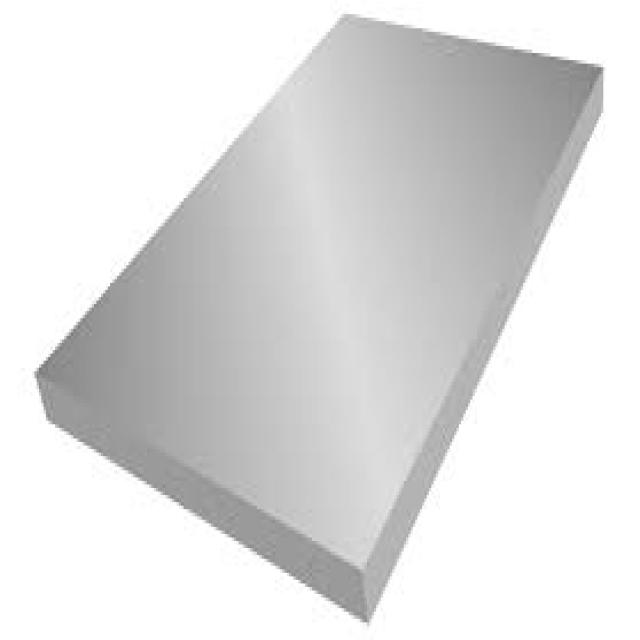Dry Waste: (34, 14, 606, 626)
